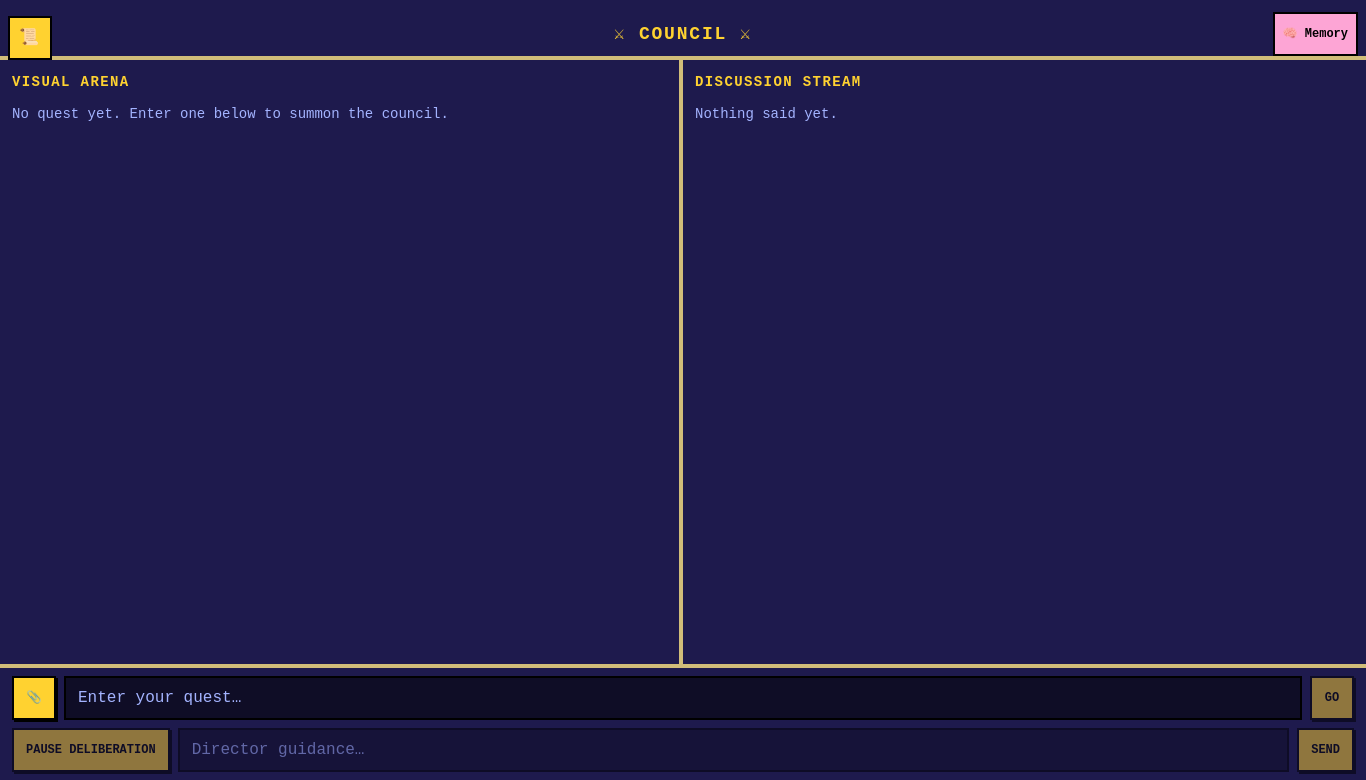
Test: AppShell › shows request errors
The image size is (1366, 780).
Type "q" into the field labelled "quest". click: point(683, 698)
box: [64,676,1302,720]
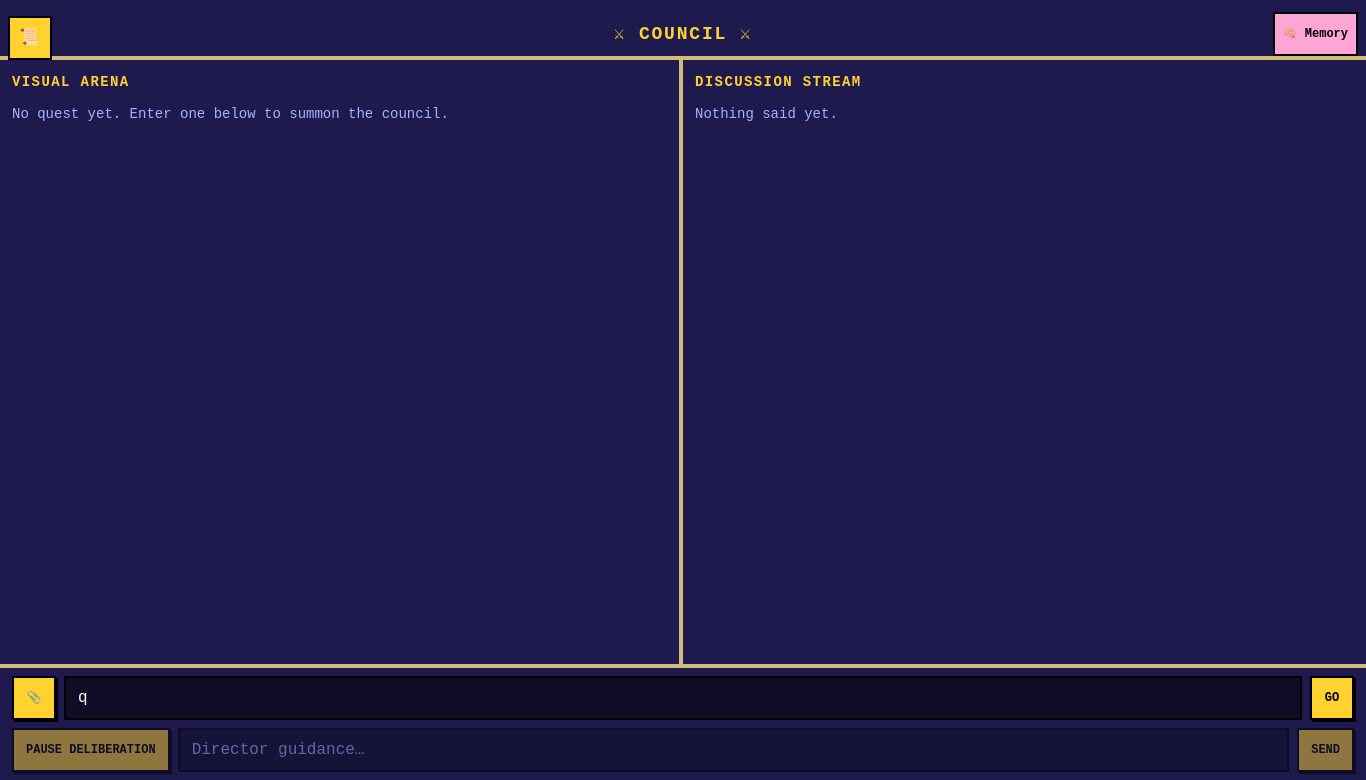
Click the button "Go". click: point(1332, 698)
box: [1310,676,1354,720]
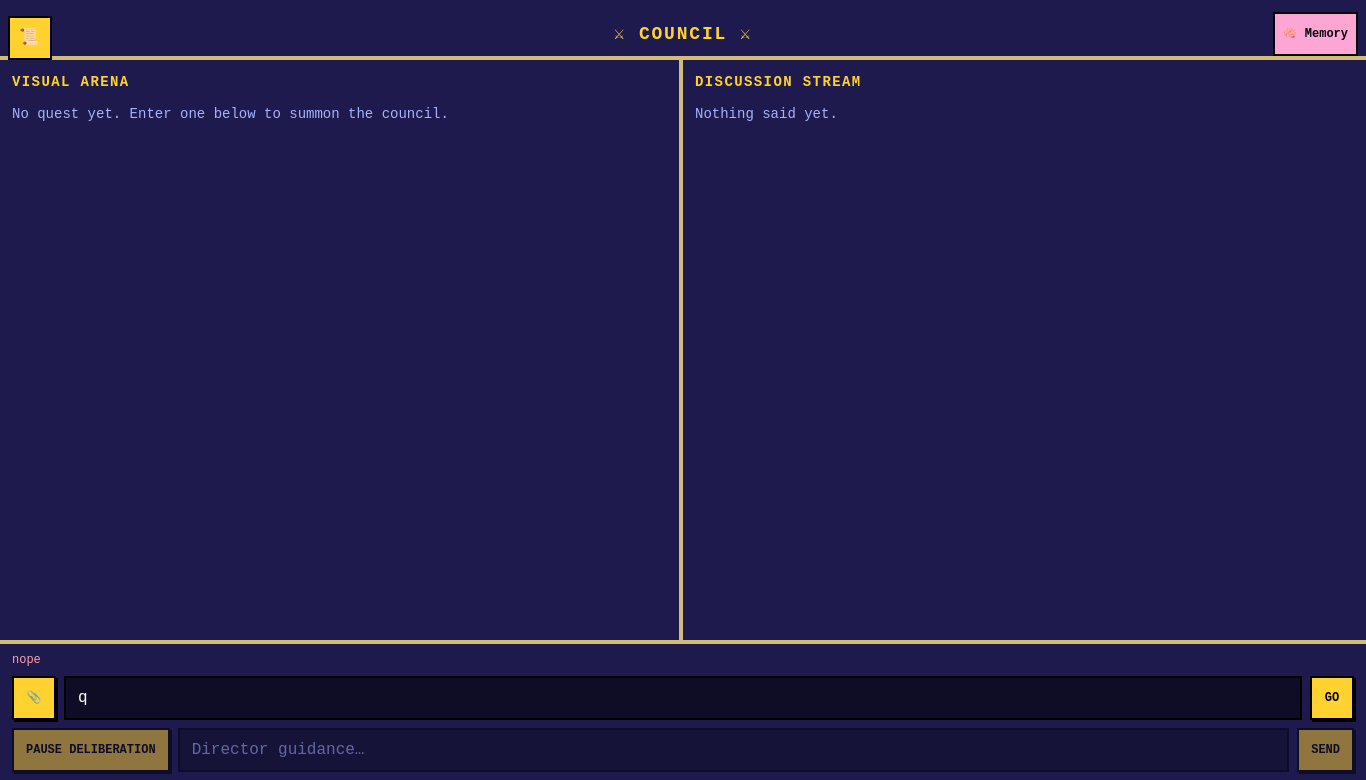
Now the message reads "nope", box [12,653,41,667]
